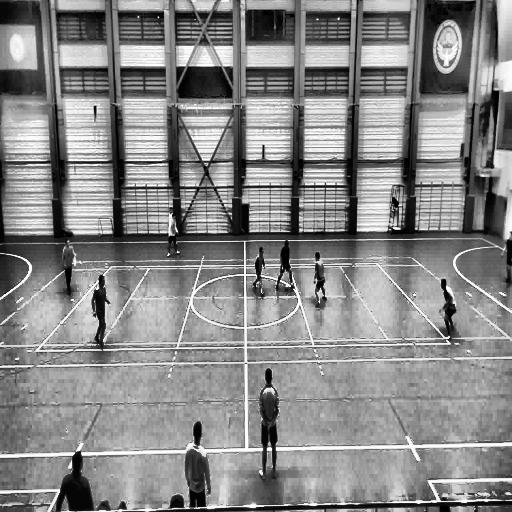ball: (285, 284, 289, 291)
player: (186, 421, 212, 507), (259, 370, 279, 481), (93, 274, 111, 351), (440, 278, 456, 341), (276, 240, 294, 290), (62, 238, 76, 294), (313, 251, 326, 307), (168, 210, 181, 255), (252, 247, 264, 295), (501, 228, 512, 277)
